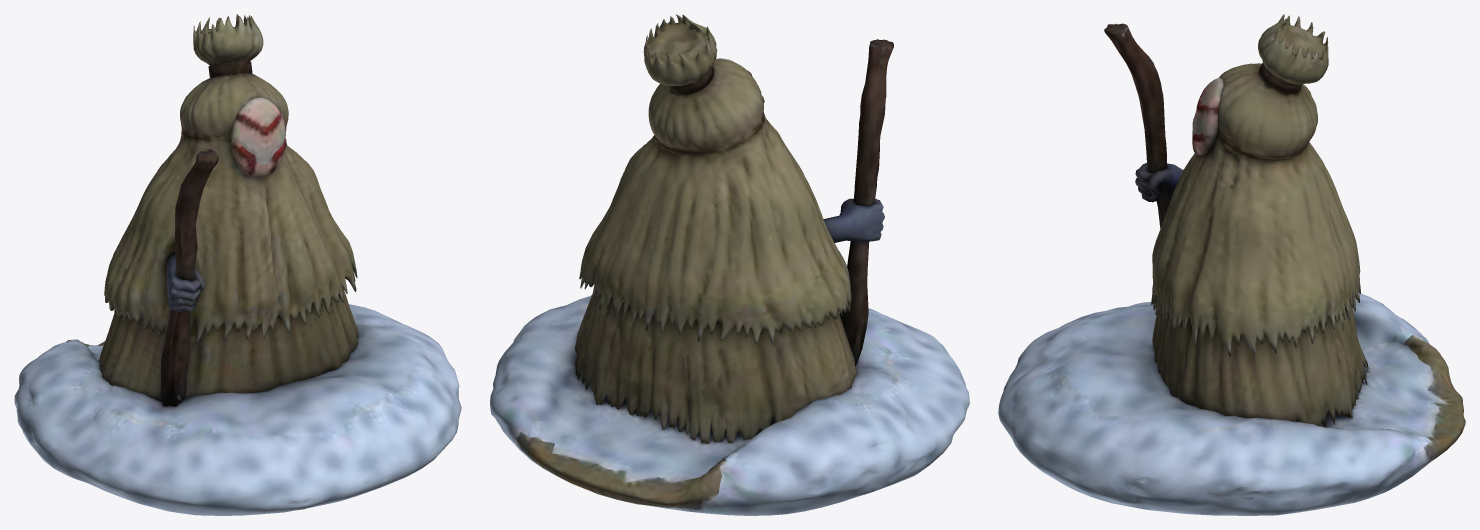
File: MZ4250 - Chwinga.glb
3 renders of one model, left to right at view 1: azimuth 30°, elevation 25°; view 2: azimuth 150°, elevation 25°; view 3: azimuth 270°, elevation 25°, orthographic. The views are drawn at different scales.
Visible parts, largest first — view 1: Sphere.001; view 2: Sphere.001; view 3: Sphere.001.
Boxes of the visible parts, left/top/right/bottom form: Sphere.001: left=14, top=14, right=461, bottom=515; Sphere.001: left=490, top=14, right=969, bottom=515; Sphere.001: left=998, top=14, right=1465, bottom=515.
Bounding box in the file's own units: 41.38 × 41.81 × 41.02.
1 material, 1 textured.
